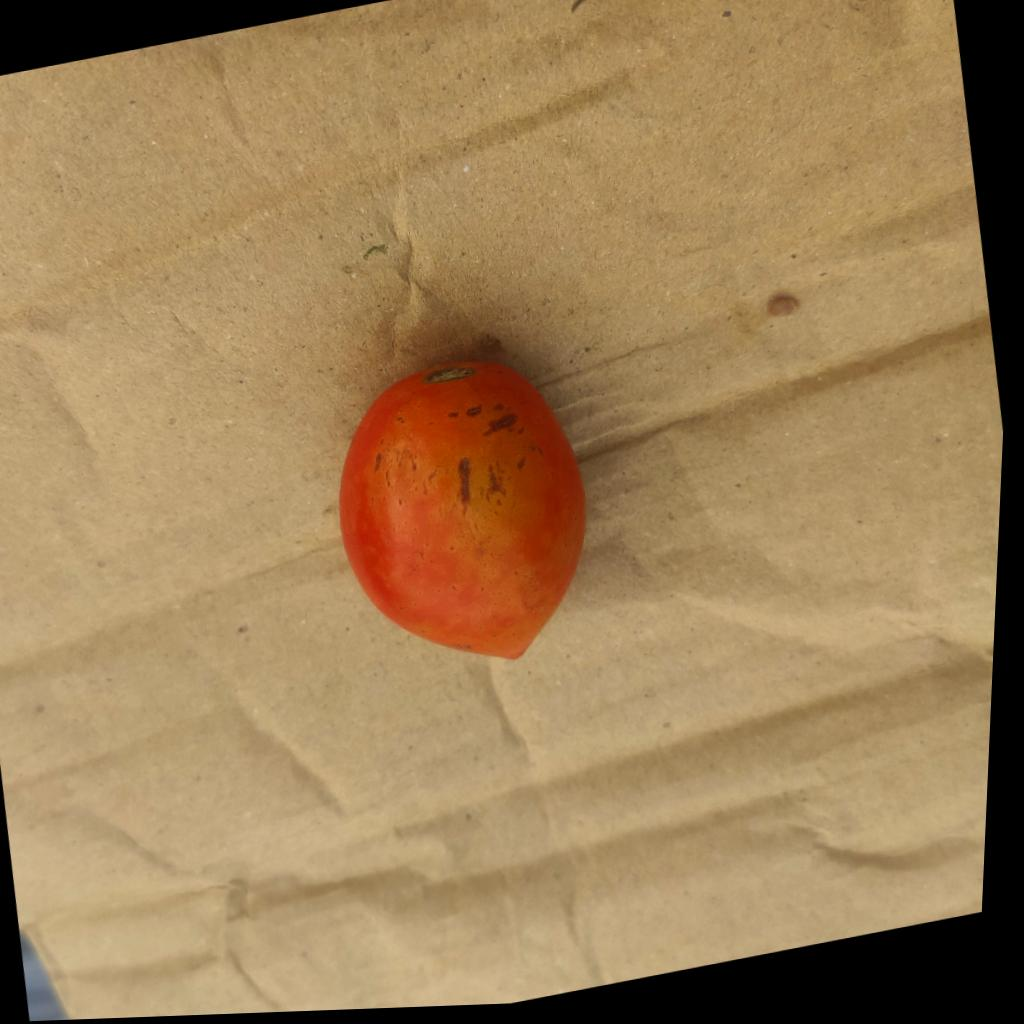bruise_discoloration: (362, 389, 586, 654)
tomato: (340, 360, 584, 657)
